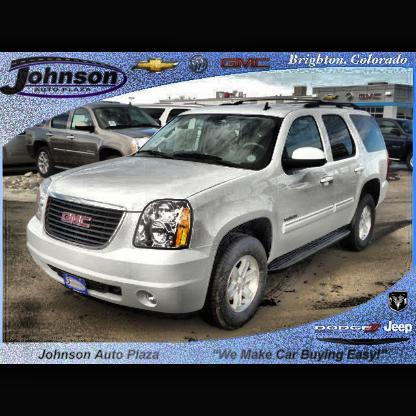GMC Yukon Hybrid SUV 2012: (22, 93, 393, 327)
